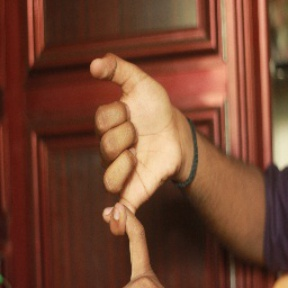S: (79, 47, 191, 288)
